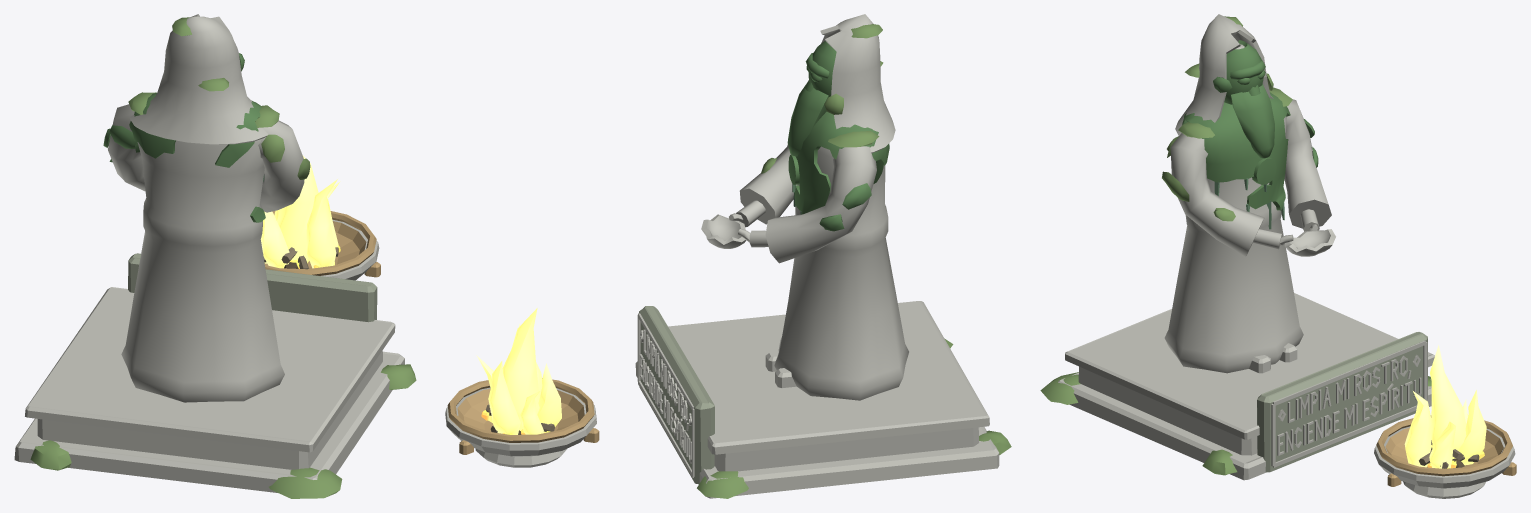
File: ChozaInterior.glb
3 renders of one model, left to right at view 1: azimuth 30°, elevation 25°; view 2: azimuth 150°, elevation 25°; view 3: azimuth 270°, elevation 25°, orthographic. The views are drawn at different scales.
Visible parts, largest first — view 1: EstatuaPiedra, EstatuaPedestal, EstatuaFuego, EstatuaInscripcion, EstatuaMohoCuerpo, EstatuaPlato, EstatuaMohoFrente; view 2: EstatuaPedestal, EstatuaPiedra, EstatuaInscripcion, EstatuaPlato, EstatuaFuego, EstatuaMohoCuerpo, EstatuaMohoBoca, EstatuaMohoFrente; view 3: EstatuaPiedra, EstatuaPedestal, EstatuaInscripcion, EstatuaMohoCuerpo, EstatuaPlato, EstatuaFuego, EstatuaMohoBoca, EstatuaMohoFrente, EstatuaMohoOjos.
Part boxes in pixels (<box>): EstatuaPiedra: <box>108,14,304,402</box>; EstatuaPedestal: <box>14,287,416,498</box>; EstatuaFuego: <box>260,155,340,268</box>; EstatuaInscripcion: <box>128,253,377,322</box>; EstatuaMohoCuerpo: <box>103,92,310,222</box>; EstatuaPlato: <box>263,211,380,280</box>; EstatuaMohoFrente: <box>172,17,228,91</box>; EstatuaPedestal: <box>635,301,1011,498</box>; EstatuaPiedra: <box>701,14,908,400</box>; EstatuaInscripcion: <box>637,306,714,484</box>; EstatuaPlato: <box>445,378,599,467</box>; EstatuaFuego: <box>476,308,561,434</box>; EstatuaMohoCuerpo: <box>761,111,889,231</box>; EstatuaMohoBoca: <box>787,41,836,156</box>; EstatuaMohoFrente: <box>805,24,883,78</box>; EstatuaPiedra: <box>1164,14,1335,373</box>; EstatuaPedestal: <box>1040,293,1434,480</box>; EstatuaInscripcion: <box>1257,332,1427,472</box>; EstatuaMohoCuerpo: <box>1162,87,1318,229</box>; EstatuaPlato: <box>1374,415,1516,498</box>; EstatuaFuego: <box>1404,345,1486,468</box>; EstatuaMohoBoca: <box>1224,40,1274,158</box>; EstatuaMohoFrente: <box>1185,16,1265,79</box>; EstatuaMohoOjos: <box>1213,70,1273,95</box>.
Size of the model in its own units: 2.45 by 2.14 by 2.49.
